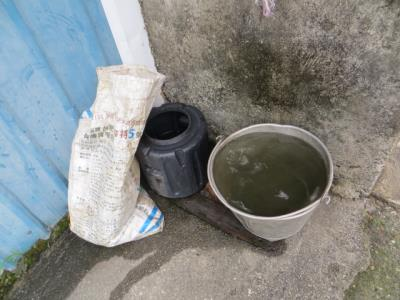bucket: (205, 121, 337, 246), (132, 100, 212, 200)
plastic_bag: (66, 59, 165, 247)
